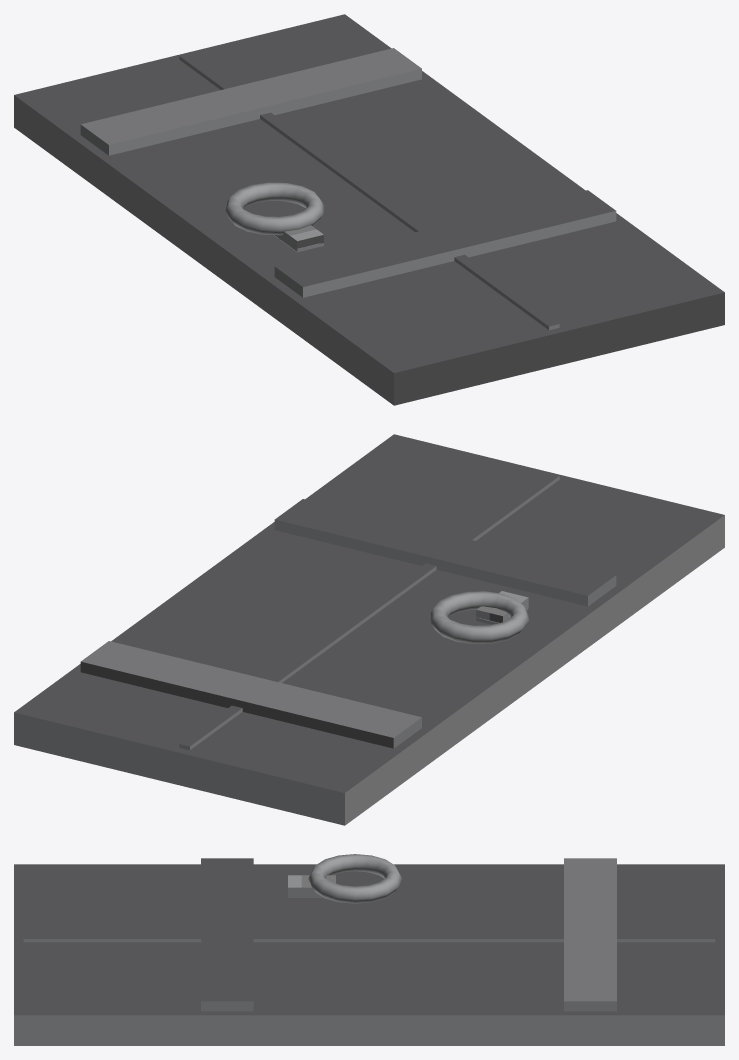
The picture shows the model from 3 angles, top to bottom: view 1: azimuth 30°, elevation 25°; view 2: azimuth 150°, elevation 25°; view 3: azimuth 270°, elevation 25°; orthographic projection. The views are drawn at different scales.
Size of the model in its own units: 0.372 by 0.0593 by 0.74.
